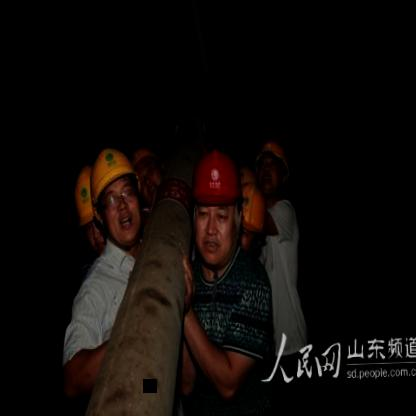helmet: (188, 146, 248, 256), (90, 141, 146, 252), (72, 163, 108, 255), (237, 182, 273, 260), (252, 135, 292, 201), (128, 148, 166, 204)
